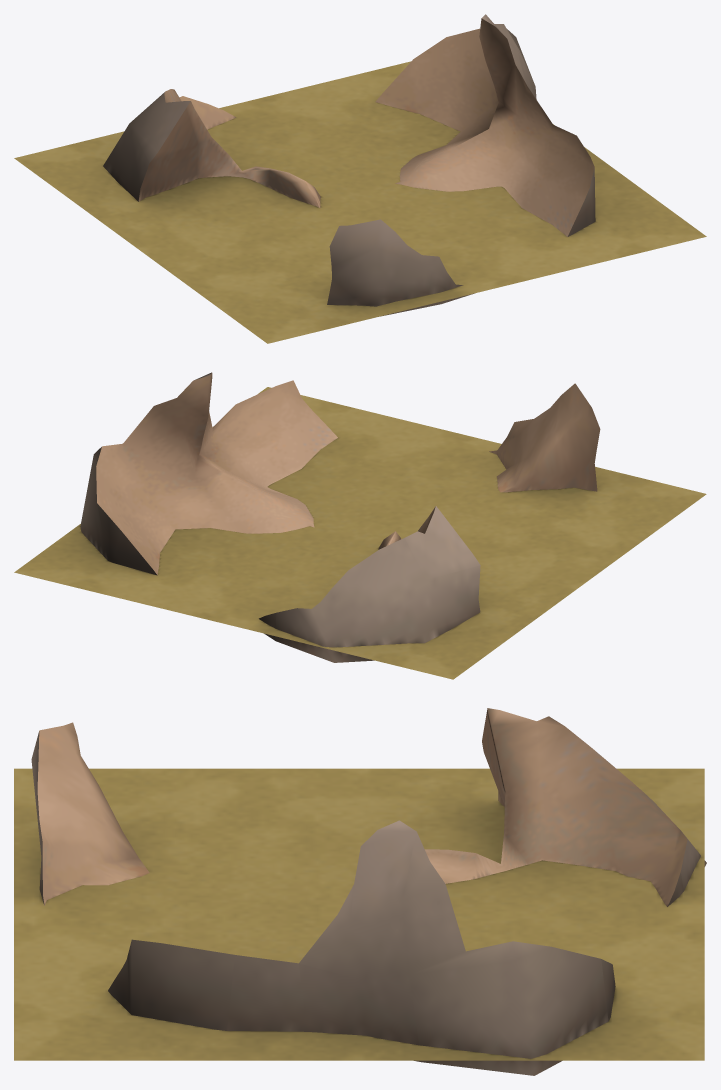
The model's file is V-Sol_Rocher1Casse.FBX.
The picture shows the model from 3 angles, top to bottom: view 1: azimuth 30°, elevation 25°; view 2: azimuth 150°, elevation 25°; view 3: azimuth 270°, elevation 25°; orthographic projection. The views are drawn at different scales.
Visible parts, largest first — view 1: Sol_Rocher1Casse; view 2: Sol_Rocher1Casse; view 3: Sol_Rocher1Casse.
Part boxes in pixels (box(x1,y1,x2,y2)): Sol_Rocher1Casse: box(14, 14, 706, 343); Sol_Rocher1Casse: box(14, 372, 706, 679); Sol_Rocher1Casse: box(14, 708, 706, 1075).
Size of the model in its own units: 2 by 0.6415 by 2.01.
